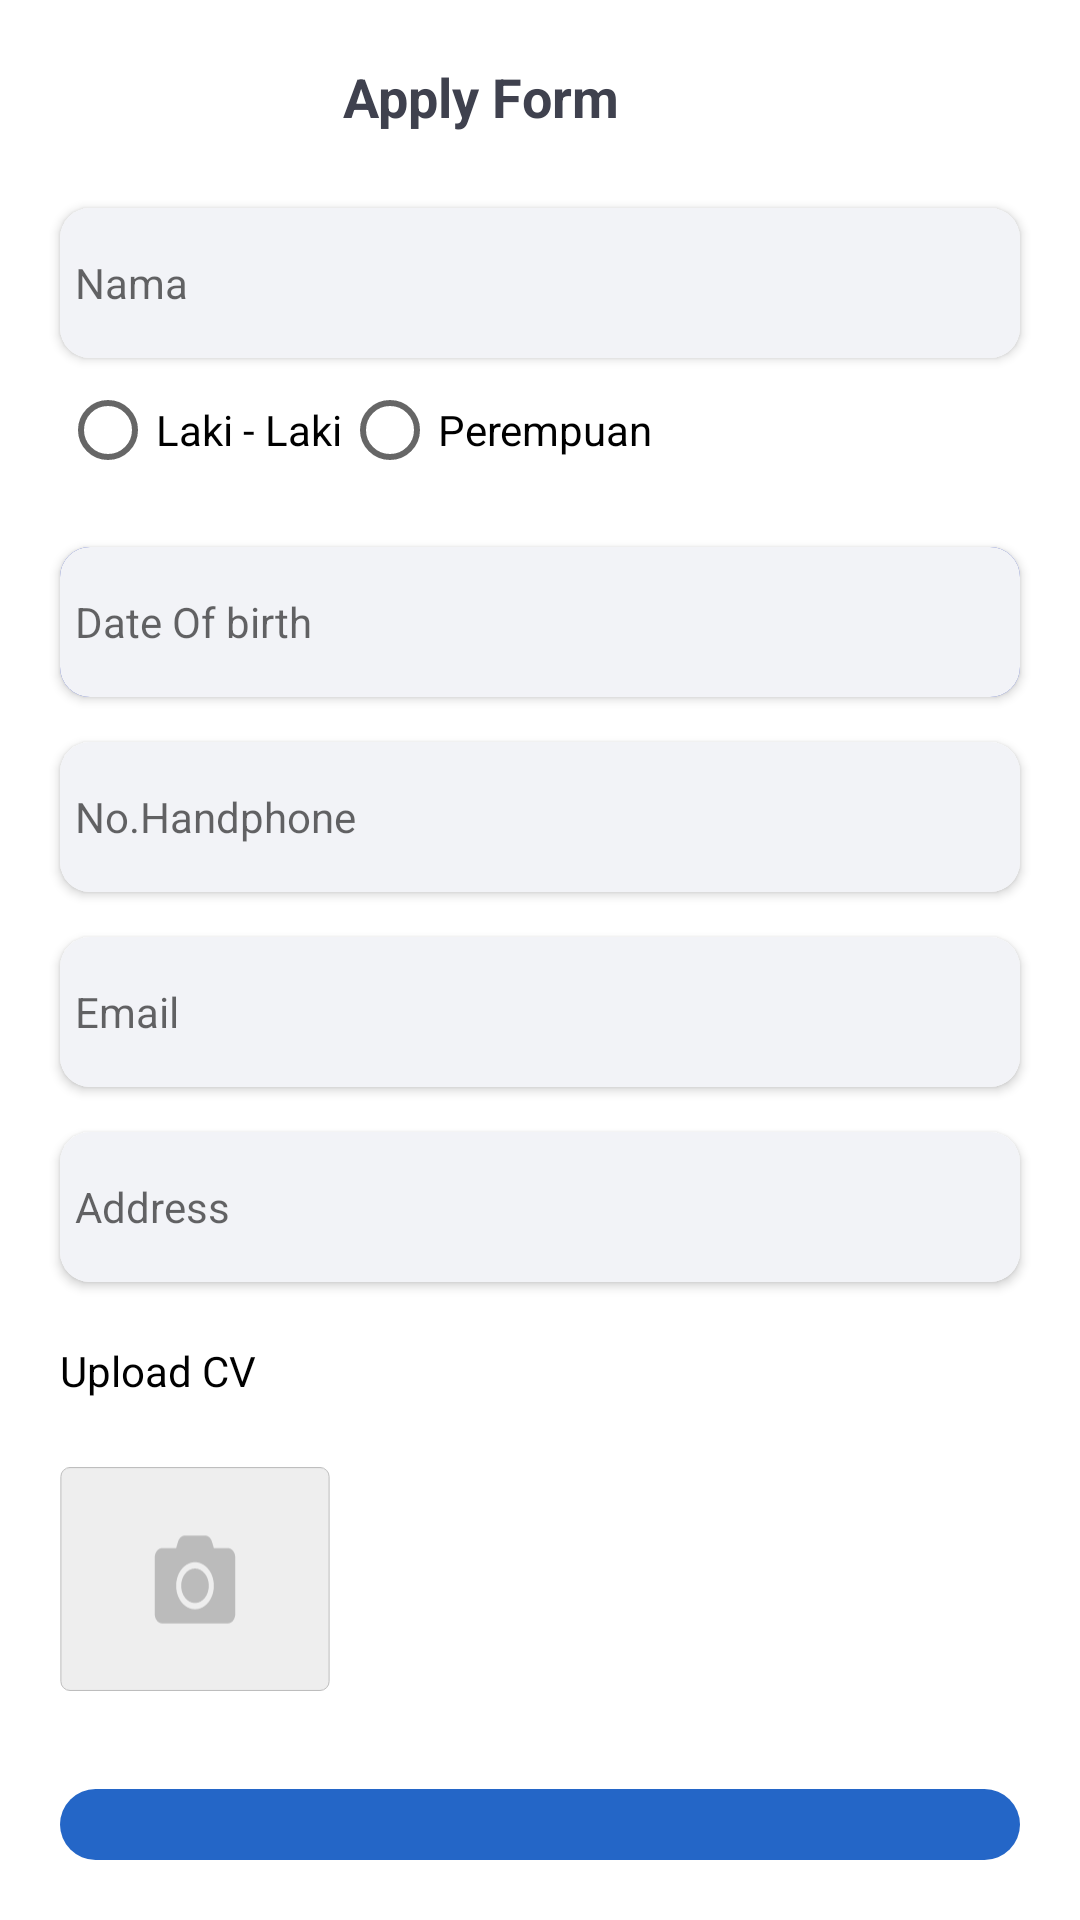

Icon click points for this 1080px×1920px phone screenshot, format (x,y):
addimg: (195,1579)
